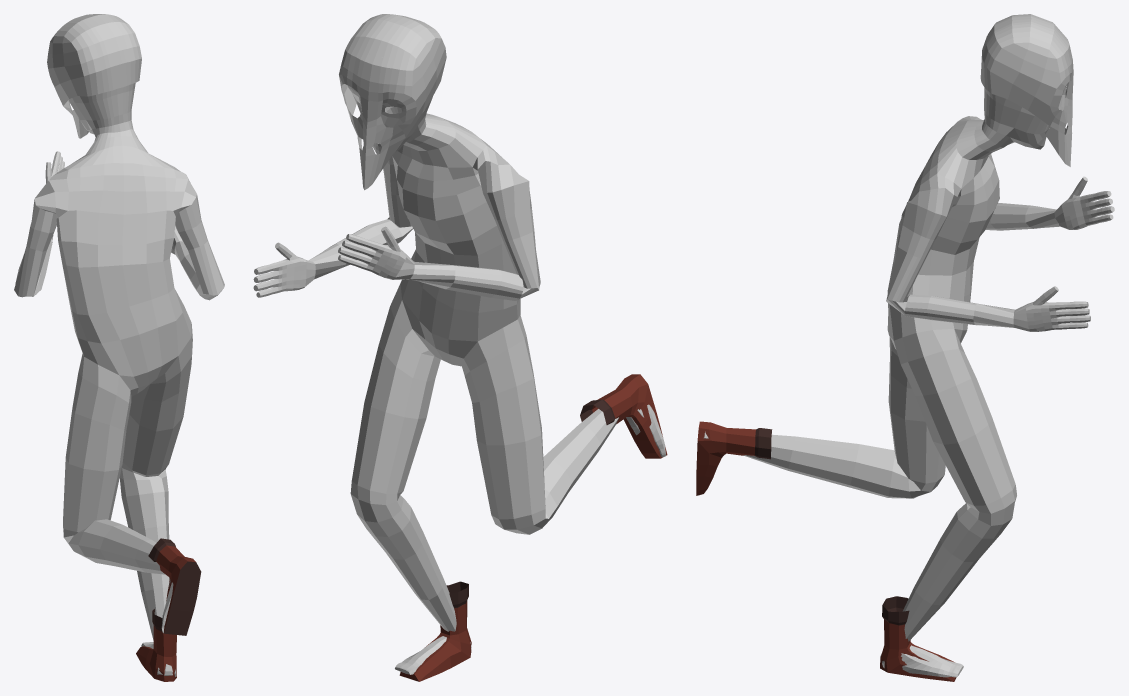
File: correr_000131.obj
3 views of the same model, side by side, from view 1: azimuth 30°, elevation 25°; view 2: azimuth 150°, elevation 25°; view 3: azimuth 270°, elevation 25° (orthographic). The views are drawn at different scales.
Parts seen in each view (by area): view 1: Plane.002_Plane.001, Plane.004, Plane.003; view 2: Plane.002_Plane.001, Plane.004, Plane.003; view 3: Plane.002_Plane.001, Plane.004, Plane.003.
Part boxes in pixels (x1,y1,x2,y2): Plane.002_Plane.001: [14, 14, 224, 676]; Plane.004: [148, 538, 201, 635]; Plane.003: [136, 609, 176, 681]; Plane.002_Plane.001: [253, 14, 665, 674]; Plane.004: [580, 374, 667, 458]; Plane.003: [399, 581, 471, 681]; Plane.002_Plane.001: [704, 14, 1114, 677]; Plane.004: [696, 421, 772, 495]; Plane.003: [880, 596, 956, 681].
Size of the model in its own units: 2.19 by 6.42 by 3.76.
